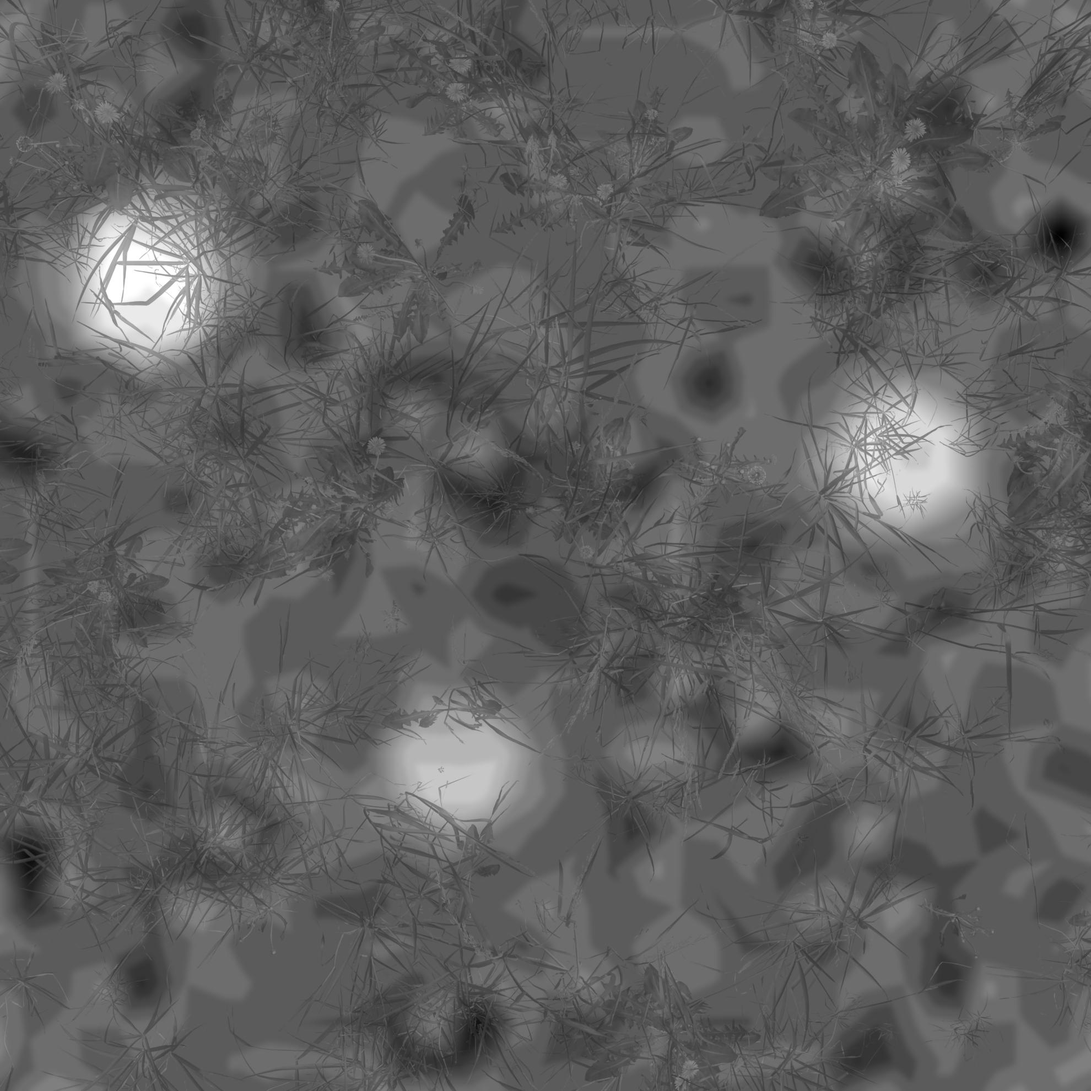landmine: (807, 373, 973, 548), (60, 206, 223, 362), (399, 711, 535, 844)
